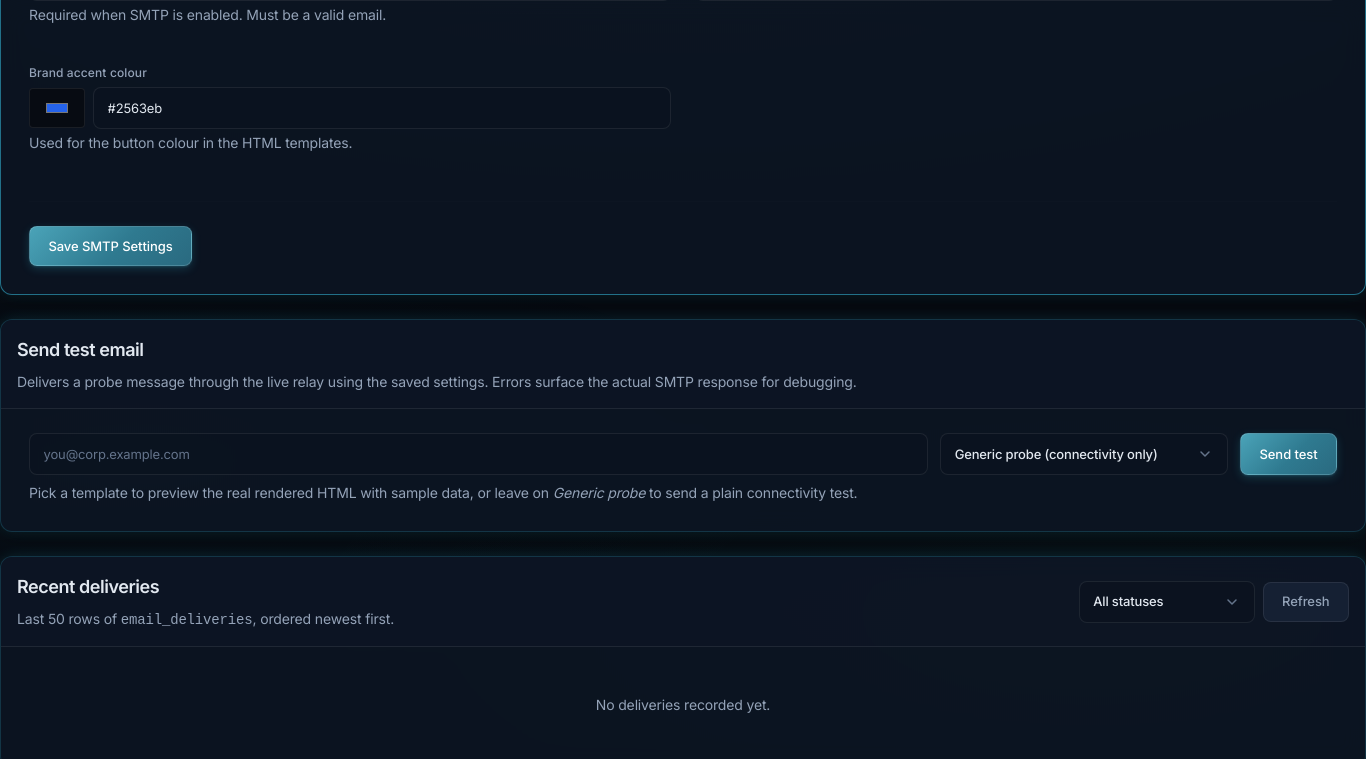
NotificationsTab › surfaces the SMTP response on a failed test-send
(page scrolled)
Type "probe@corp.local" into the field with placeholder "you@corp.example.com" at (479, 454), box [29,433,928,475]
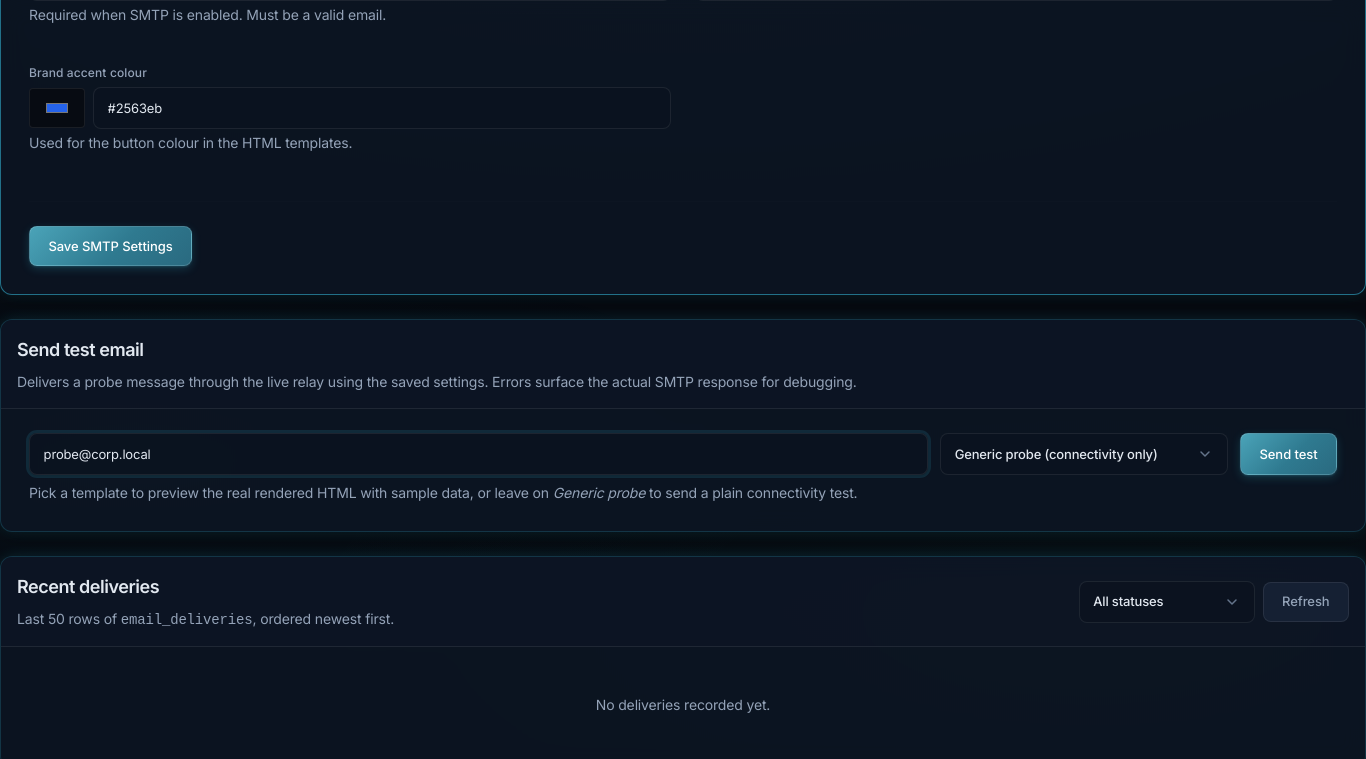
Click the button "Send test" at (1289, 454), box [1240,433,1337,475]
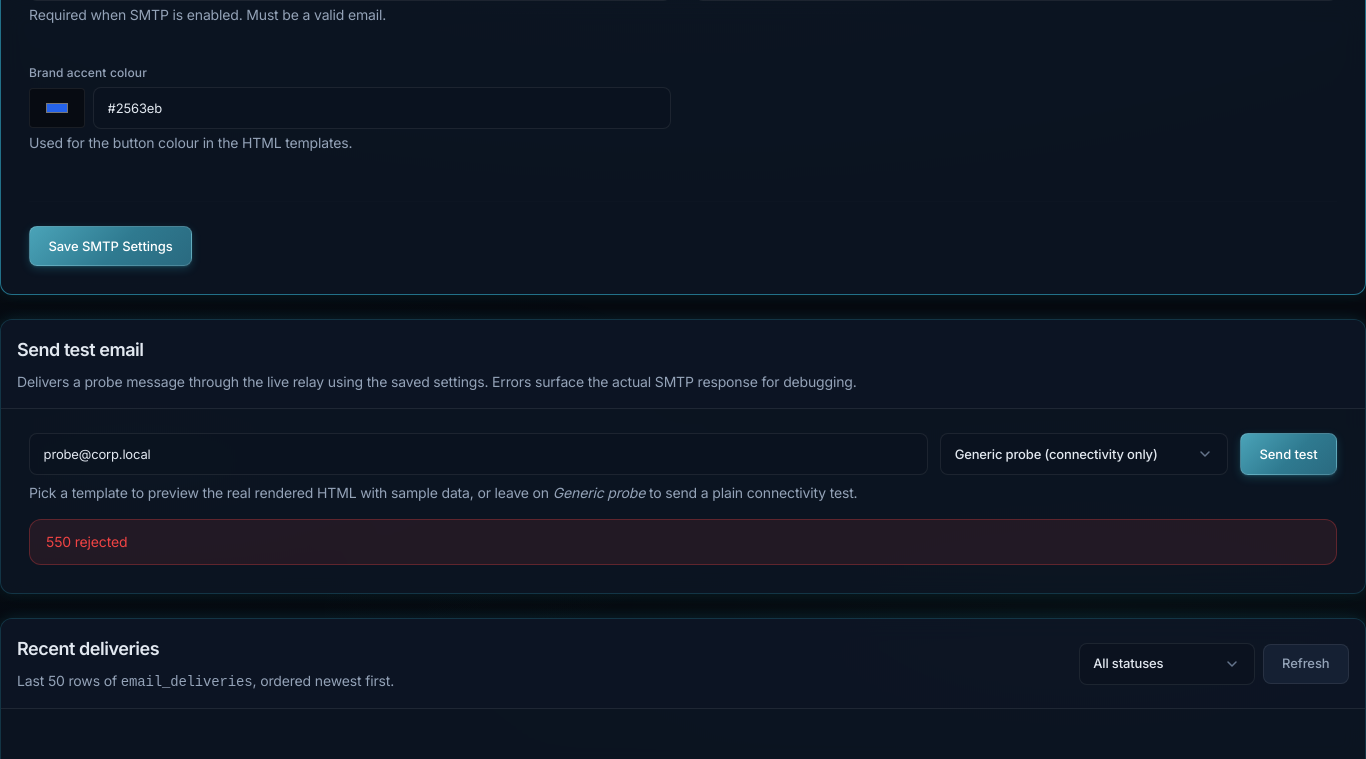
Expected: the text "550 rejected" is shown, [46,533,127,550]
